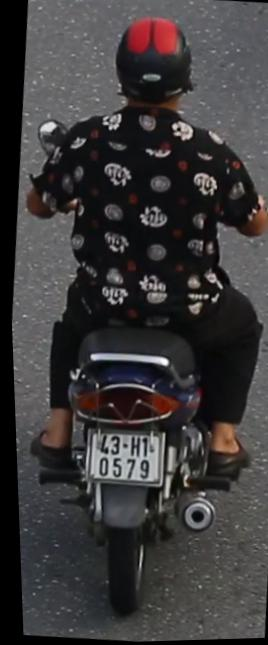LP: (74, 421, 166, 492)
helmet: (104, 10, 203, 131)
